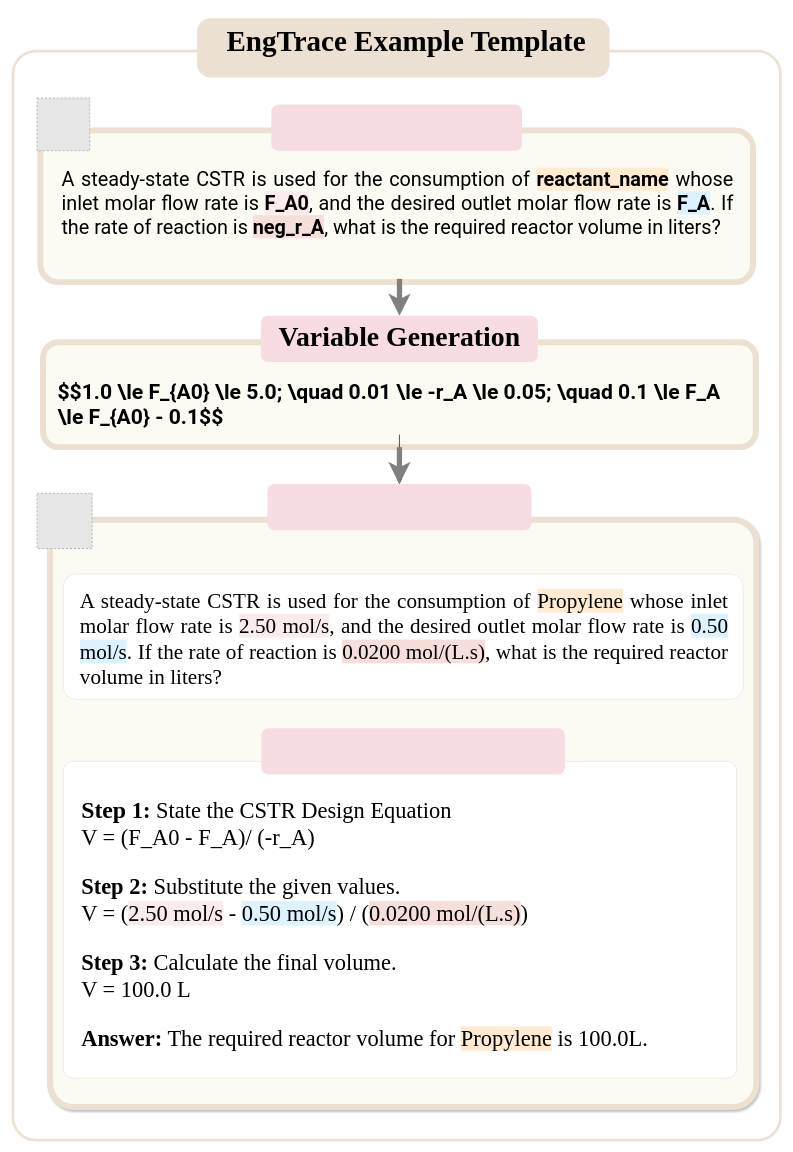
The diagram is 793 pixels wide and 1152 high, and some of its shapes have lost their labels. Grey dashed boxes stand in for pictures. Here are the shapes that lost their labels. From the top down, the centre of each, then its label:
At point 396,127: "Question Template".
At point 399,507: "Generated Instance".
At point 413,751: "Chain-of-Thought Solution".
